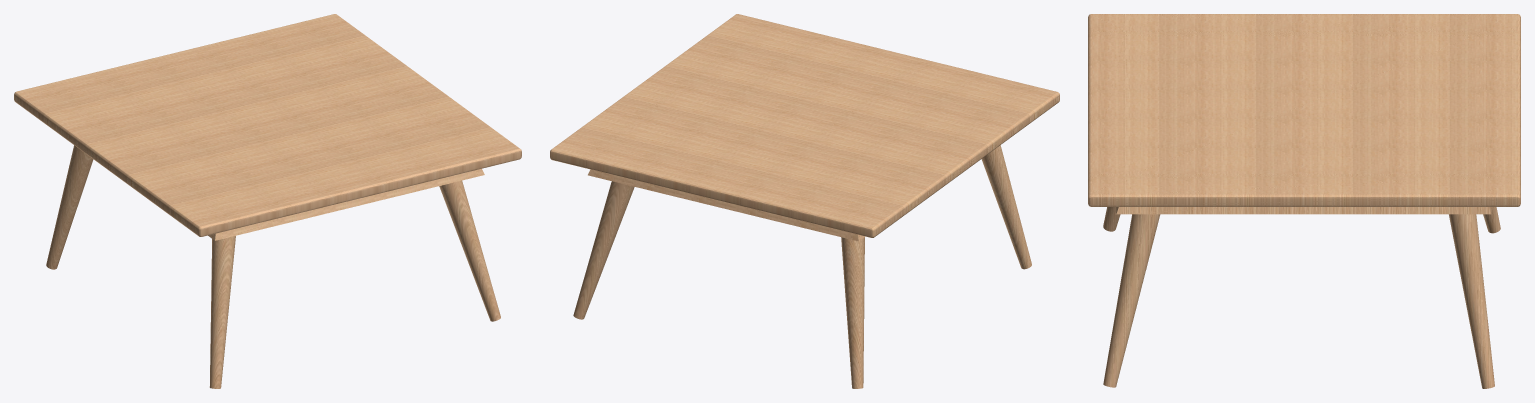
Rendered from Meja_Makan.fbx.
3 renders of one model, left to right at view 1: azimuth 30°, elevation 25°; view 2: azimuth 150°, elevation 25°; view 3: azimuth 270°, elevation 25°, orthographic. The views are drawn at different scales.
Parts seen in each view (by area): view 1: pCube59; view 2: pCube59; view 3: pCube59.
Boxes of the visible parts, x1,y1,x2,y2 form: pCube59: (14, 14, 521, 388); pCube59: (550, 14, 1059, 388); pCube59: (1088, 14, 1520, 388).
Size of the model in its own units: 10.34 by 5.34 by 10.34.
